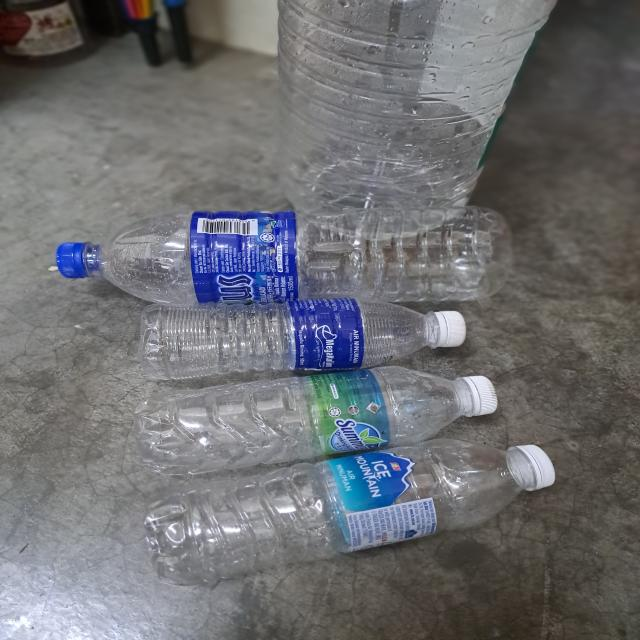plastic bottle: (279, 0, 565, 238), (143, 439, 531, 578), (95, 207, 512, 305), (136, 365, 467, 477), (138, 298, 440, 381)
plastic bottle cap: (511, 444, 557, 492), (466, 375, 498, 418), (56, 242, 84, 279), (440, 310, 467, 348)
